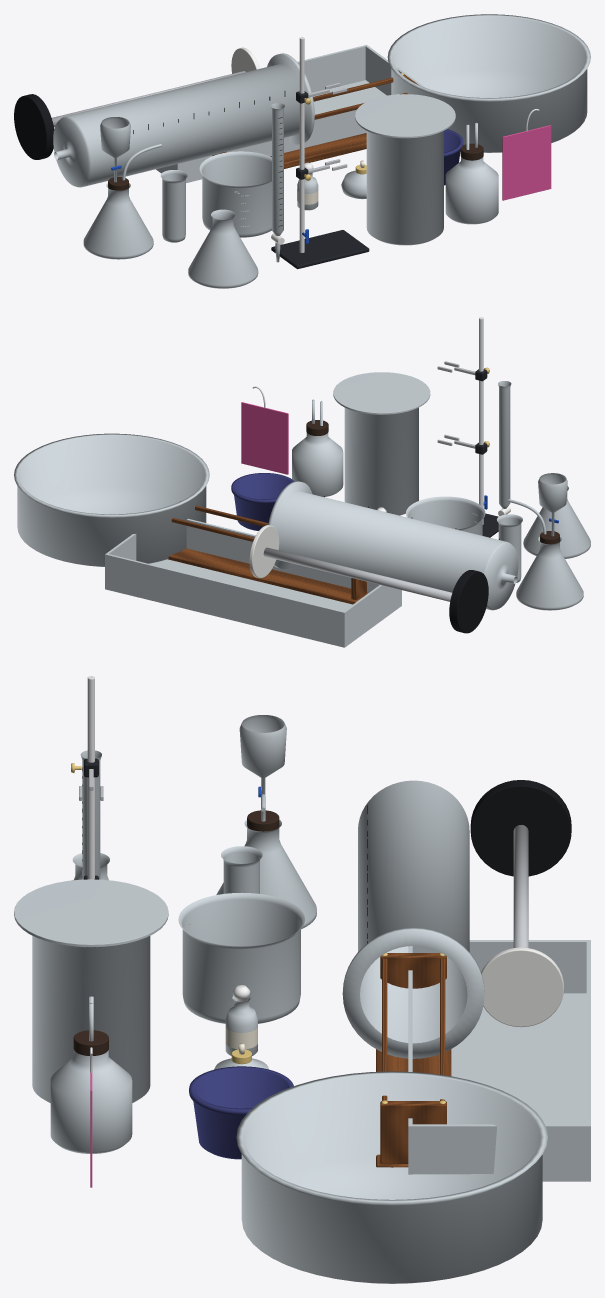
The model's file is chem-parts.glb.
3 renders of one model, top to bottom at view 1: azimuth 30°, elevation 25°; view 2: azimuth 150°, elevation 25°; view 3: azimuth 270°, elevation 25°, orthographic. The views are drawn at different scales.
Parts seen in each view (by area): view 1: Trough, SyringeBarrel, GasJar, Tank, Beaker, Generator, RetortStand, WashBottle, Erlenmeyer, Cloth, SyringePlunger, Rack (+5 smaller); view 2: Trough, Tank, SyringeBarrel, GasJar, SyringePlunger, Generator, Rack, WashBottle, Cloth, Bin, Beaker, Erlenmeyer (+3 smaller); view 3: Trough, SyringeBarrel, GasJar, Tank, SyringePlunger, Beaker, WashBottle, Rack, Generator, Bin, RetortStand, Bottle (+2 smaller).
Boxes of the visible parts, left/top/right/bottom form: Trough: left=387, top=14, right=590, bottom=152; SyringeBarrel: left=53, top=53, right=314, bottom=187; GasJar: left=355, top=94, right=455, bottom=245; Tank: left=156, top=45, right=424, bottom=182; Beaker: left=199, top=151, right=271, bottom=237; Generator: left=83, top=117, right=161, bottom=259; RetortStand: left=271, top=37, right=369, bottom=269; WashBottle: left=445, top=122, right=498, bottom=224; Erlenmeyer: left=188, top=209, right=258, bottom=288; Cloth: left=502, top=109, right=551, bottom=200; SyringePlunger: left=14, top=47, right=259, bottom=159; Rack: left=212, top=73, right=418, bottom=168; Trough: left=14, top=433, right=209, bottom=566; Tank: left=105, top=518, right=401, bottom=647; SyringeBarrel: left=268, top=481, right=518, bottom=610; GasJar: left=333, top=372, right=430, bottom=515; SyringePlunger: left=249, top=525, right=488, bottom=633; Generator: left=508, top=473, right=583, bottom=610; Rack: left=168, top=500, right=367, bottom=604; WashBottle: left=292, top=399, right=343, bottom=496; Cloth: left=241, top=386, right=288, bottom=474; Bin: left=231, top=473, right=294, bottom=530; Beaker: left=406, top=496, right=485, bottom=535; Erlenmeyer: left=523, top=486, right=590, bottom=558; Trough: left=236, top=1071, right=547, bottom=1283; SyringeBarrel: left=342, top=780, right=484, bottom=1058; GasJar: left=14, top=879, right=168, bottom=1103; Tank: left=408, top=940, right=590, bottom=1181; SyringePlunger: left=470, top=780, right=571, bottom=1027; Beaker: left=178, top=892, right=304, bottom=1023; WashBottle: left=50, top=996, right=132, bottom=1153; Rack: left=376, top=952, right=451, bottom=1167; Generator: left=216, top=715, right=316, bottom=929; Bin: left=189, top=1066, right=293, bottom=1159; RetortStand: left=71, top=676, right=103, bottom=880; Bottle: left=225, top=985, right=257, bottom=1055.
Bounding box in the file's own units: 8.75 × 3.43 × 5.37.
Materials: 18 (1 with a texture image).
